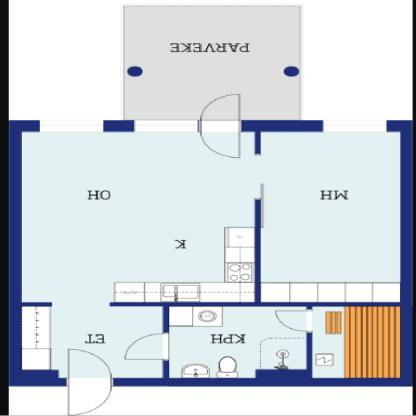door: (187, 92, 253, 160), (63, 348, 116, 414), (124, 332, 170, 362), (272, 308, 313, 333)
window: (320, 119, 389, 132), (132, 121, 196, 134), (40, 122, 104, 132)
zone: (23, 133, 258, 303), (264, 132, 399, 301), (124, 5, 301, 118), (22, 306, 165, 379), (170, 308, 311, 378), (313, 306, 401, 376)
